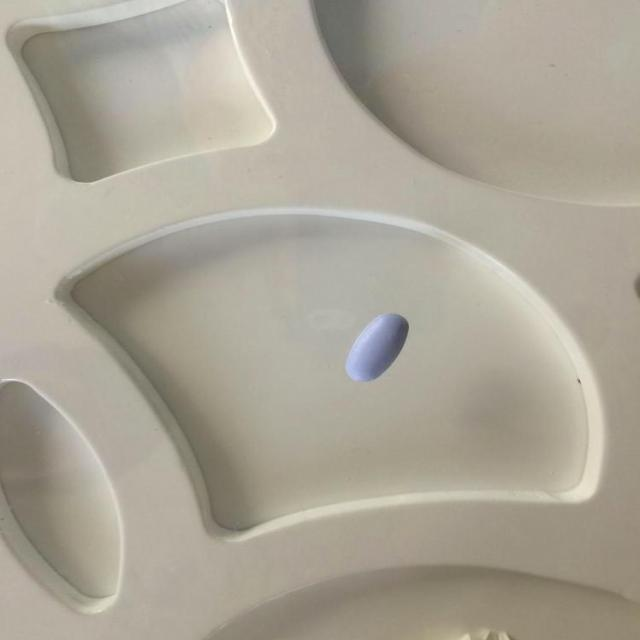pill: (342, 312, 412, 383)
